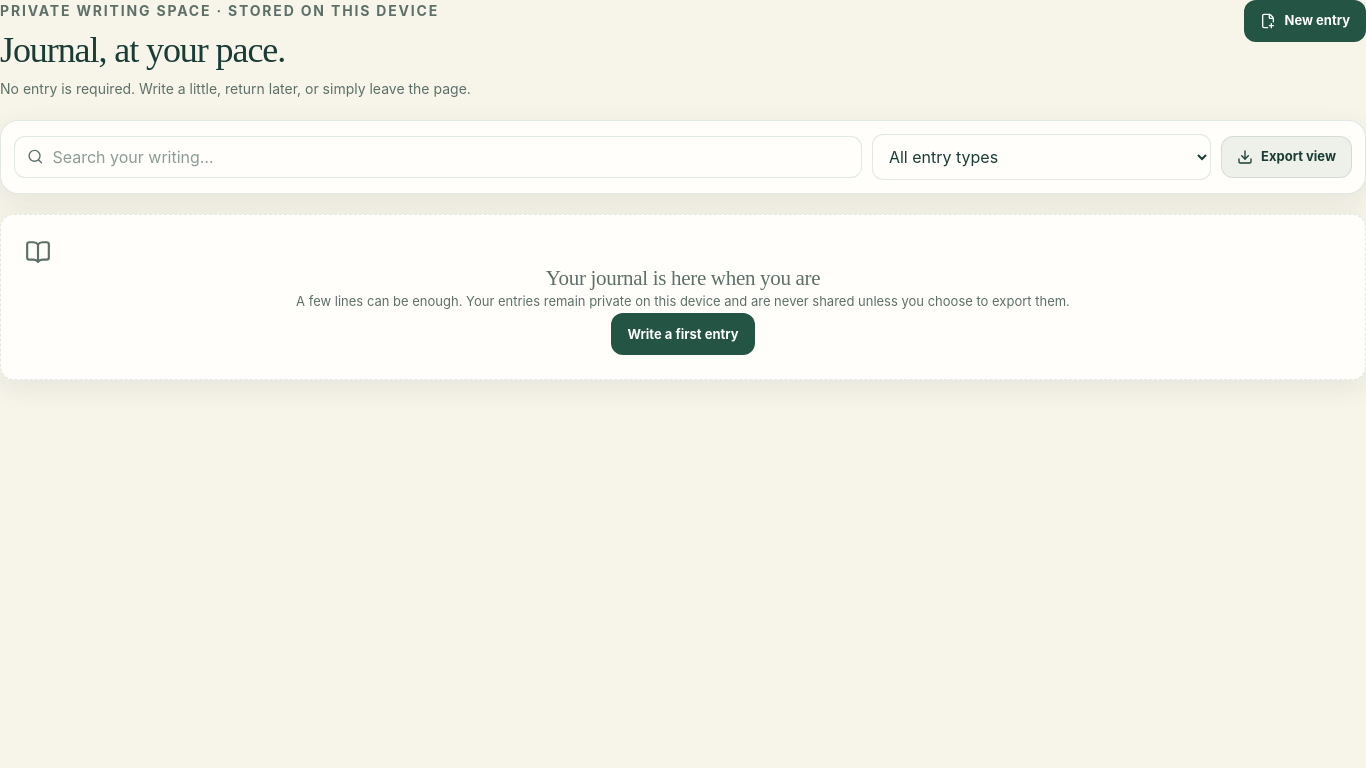
Test case: JournalPage data mutations › recovers the last saved draft into the editor without committing it as an entry
Click the button "New entry".
click(1305, 21)  # box [1244,0,1365,42]
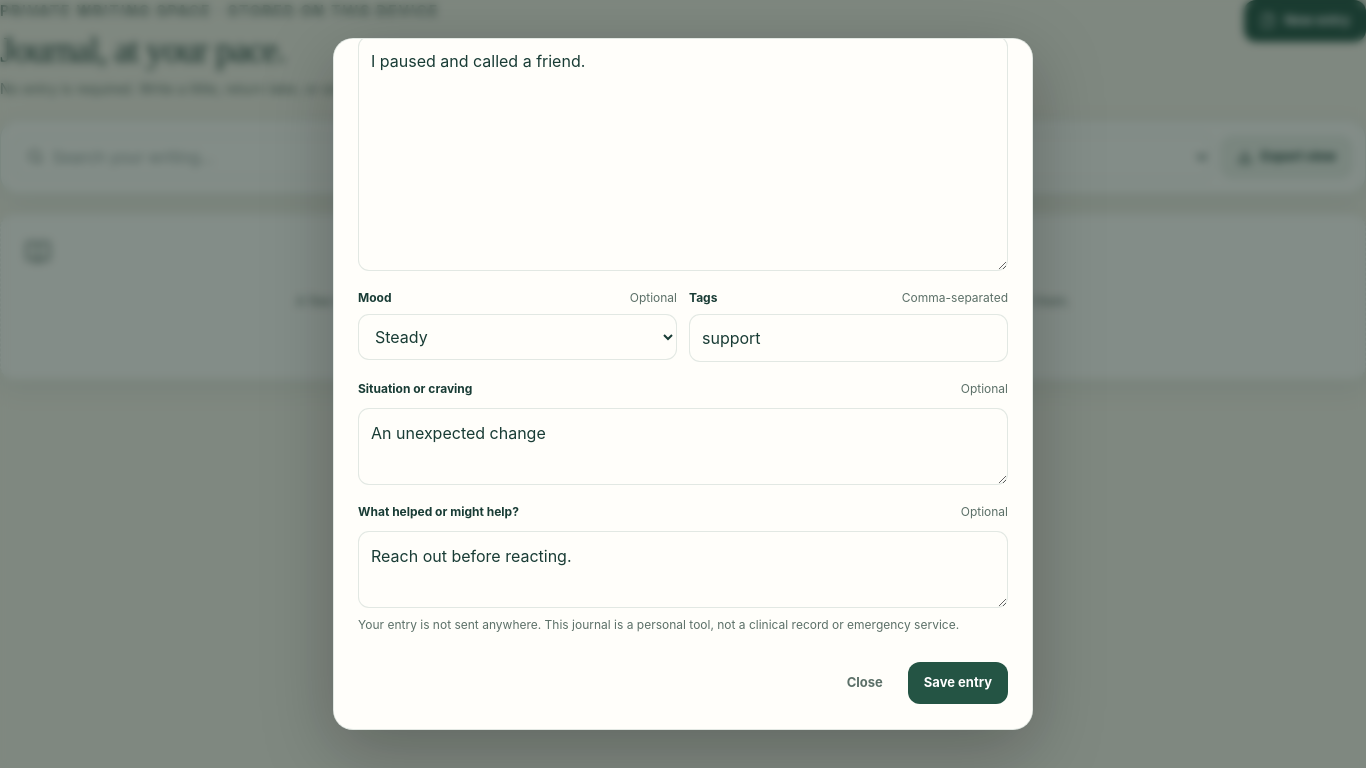
Result: the text box labelled "Your words" holds "I paused and called a friend." at [358,38,1008,271]
Result: the text box labelled "Situation or craving Optional" holds "An unexpected change" at [358,408,1008,485]
Result: the text box labelled "What helped or might help? Optional" holds "Reach out before reacting." at [358,531,1008,608]
